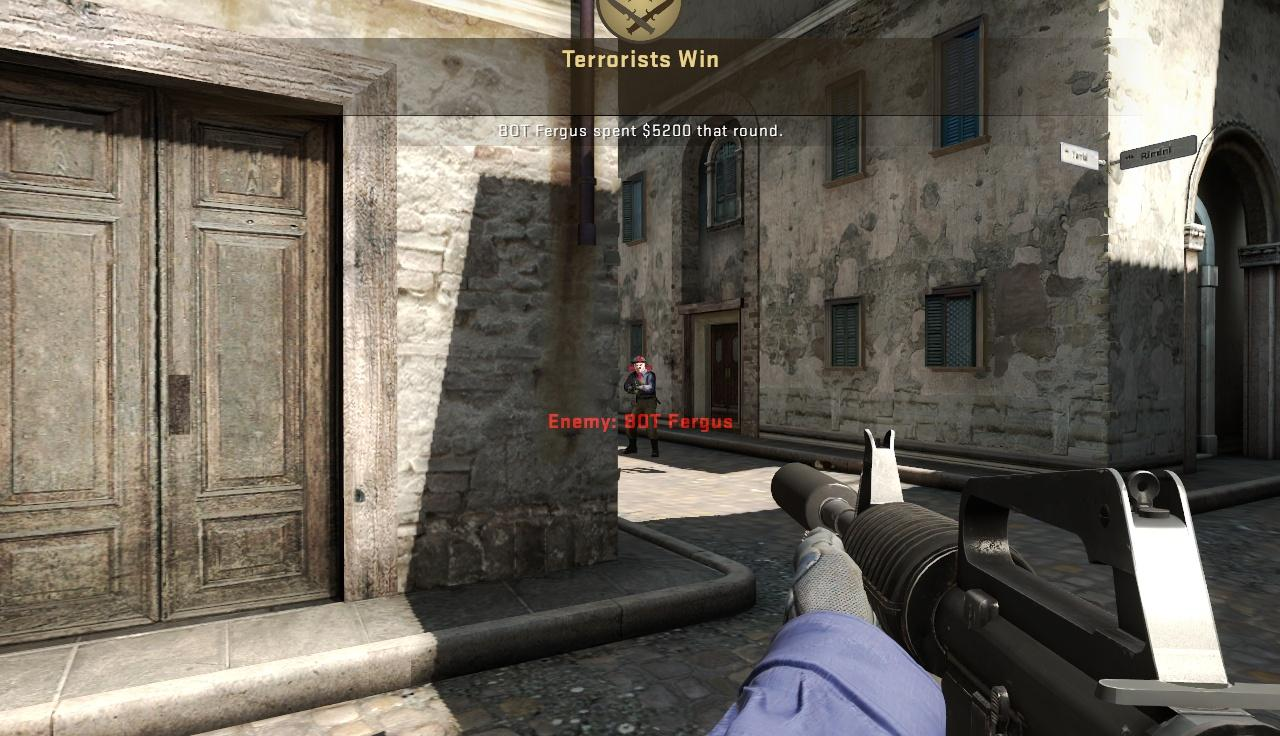rifle: (771, 431, 1280, 736)
tt: (629, 355, 657, 457)
tthead: (634, 357, 646, 372)
